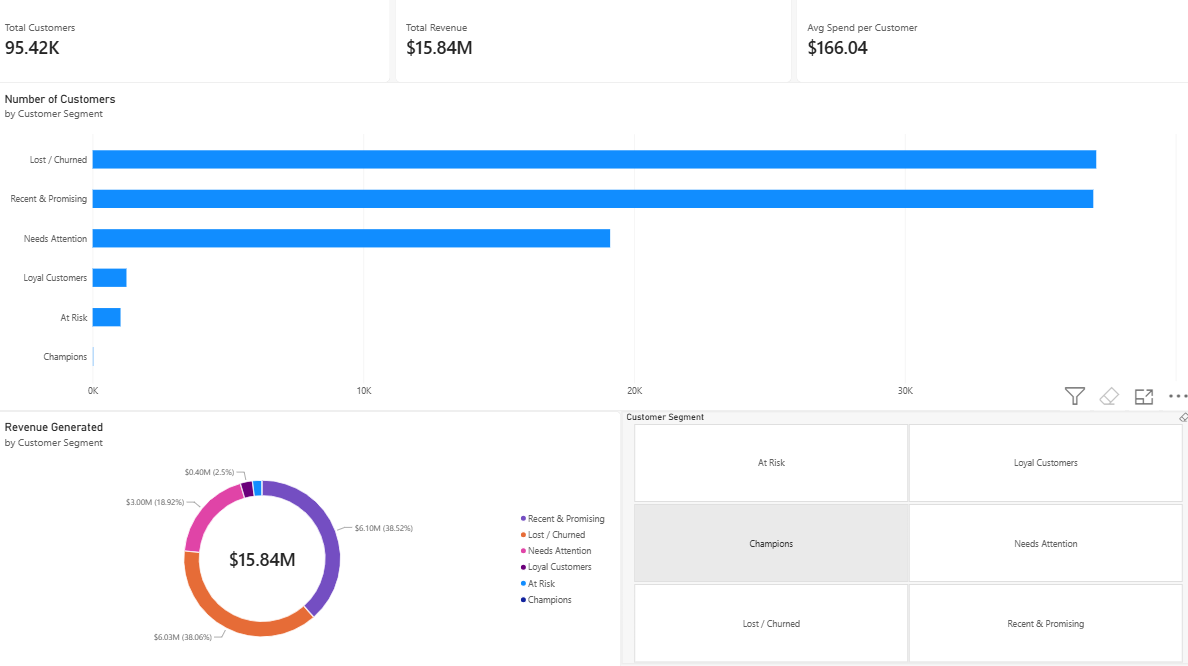

The dashboard page shown, as its layout file describes it:
{"tool":"powerbi","page":{"name":"Page 1","canvas":[1920,1080],"ordinal":0},"visuals":[{"type":"clusteredBarChart","fields":{"Category":["rfm_scored.Customer Category"],"Y":["Count(rfm_scored.customer_unique_id)"]},"box":[0,140,1920,525],"z":0},{"type":"cardVisual","fields":{"Data":["Count(rfm_scored.customer_unique_id)","Sum(rfm_scored.monetary)","Avg(rfm_scored.monetary)"]},"box":[0,0,1920,140],"z":1000},{"type":"donutChart","fields":{"Category":["rfm_scored.Customer Category"],"Y":["Sum(rfm_scored.monetary)"]},"box":[0,666.7,1003.3,413.3],"z":2000},{"type":"slicer","fields":{"Values":["rfm_scored.Customer Category"]},"box":[1003.3,666.7,916.7,403.3],"z":3000}]}

Visuals, with their boxes in screenshot pixels (x1, y1, x2, y2), scaled from the page's 1920x1080 canvas onto the 1188x666 screenshot:
clusteredBarChart - rfm_scored.Customer Category x Count(rfm_scored.customer_unique_id): bbox=(0, 86, 1187, 410)
cardVisual - Count(rfm_scored.customer_unique_id) x Sum(rfm_scored.monetary): bbox=(0, 0, 1187, 86)
donutChart - rfm_scored.Customer Category x Sum(rfm_scored.monetary): bbox=(0, 411, 621, 665)
slicer - rfm_scored.Customer Category: bbox=(621, 411, 1187, 660)
